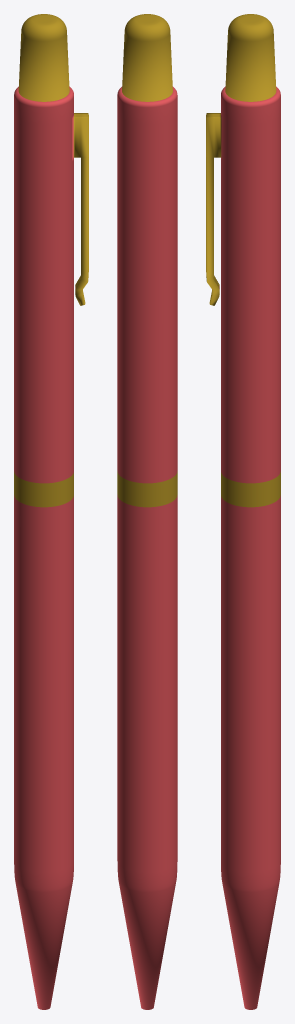
The model's file is pen.fbx.
3 views of the same model, side by side, from view 1: azimuth 90°, elevation 25°; view 2: azimuth 150°, elevation 25°; view 3: azimuth 270°, elevation 25° (orthographic).
Visible parts, largest first — view 1: pen; view 2: pen; view 3: pen.
Part boxes in pixels (x1,y1,x2,y2): pen: (14,14,88,1009); pen: (117,14,177,1009); pen: (206,14,280,1009).
Bounding box in the file's own units: 0.00849 × 0.1541 × 0.0106.
